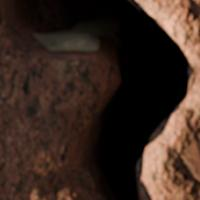broken_brick: (0, 0, 107, 199), (135, 0, 199, 92), (143, 97, 199, 199)
crack: (1, 0, 199, 199)
